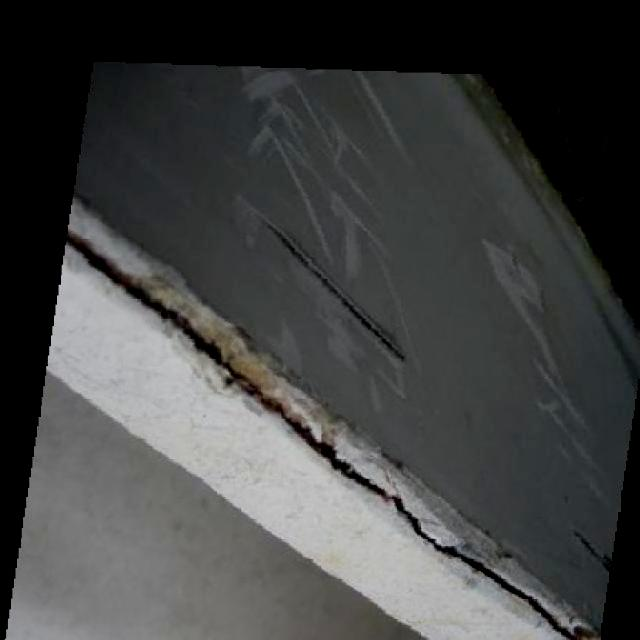crack: (76, 216, 313, 449), (314, 443, 591, 639)
